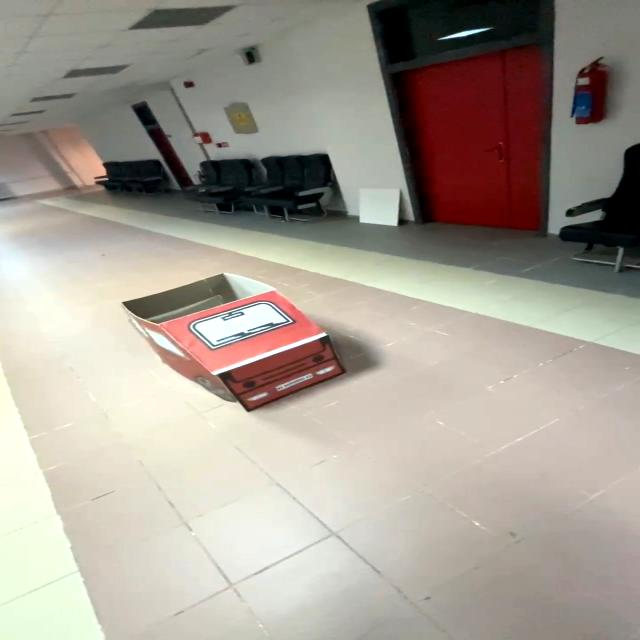red_car: (75, 256, 409, 428)
